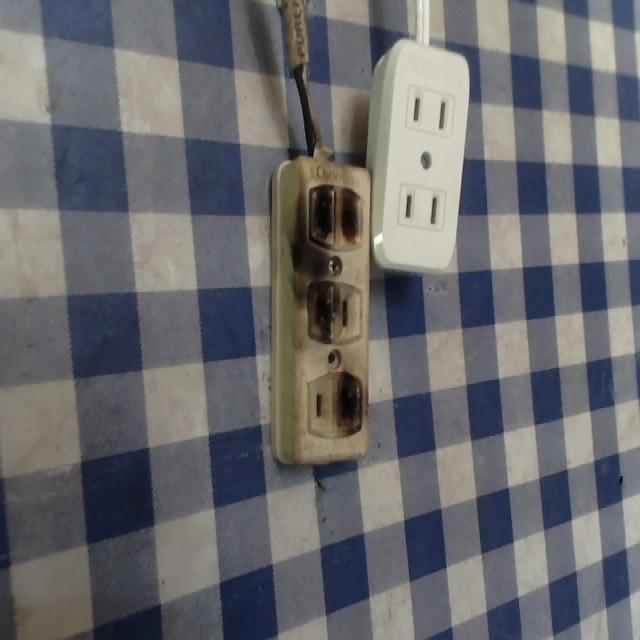-: (295, 173, 376, 256), (330, 364, 373, 443), (294, 277, 337, 351)
